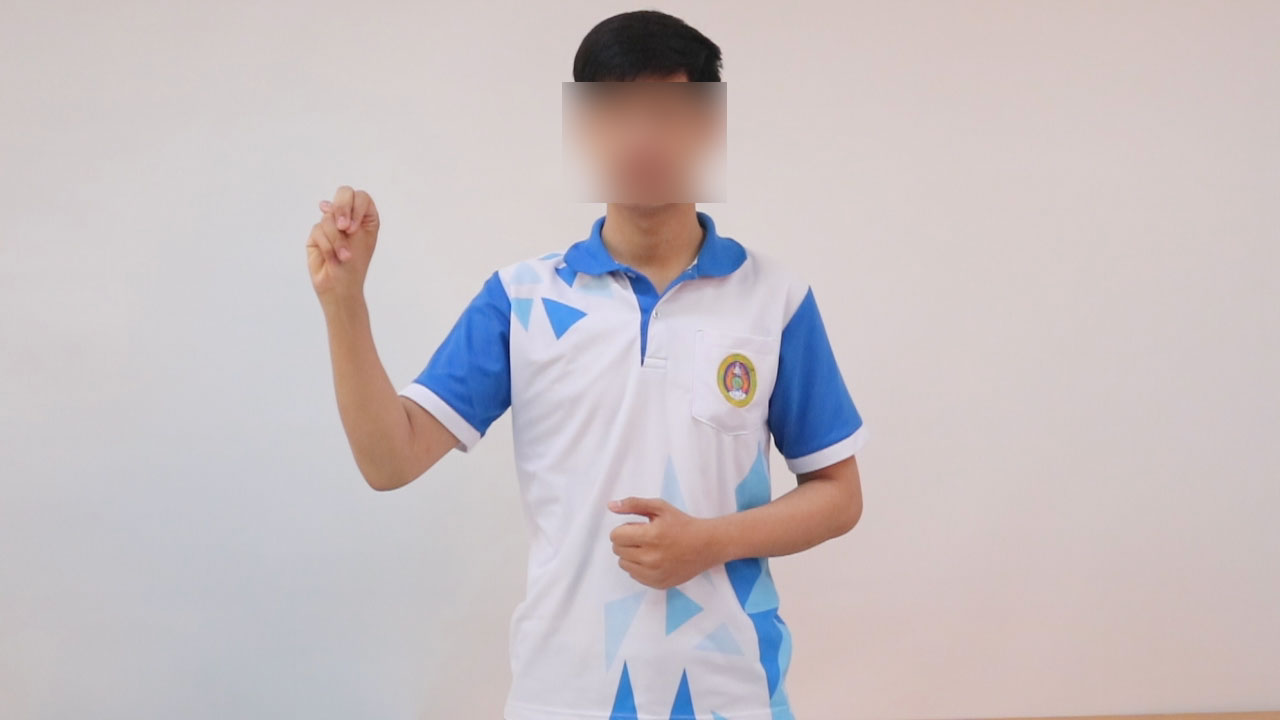nor: (300, 174, 388, 313)
